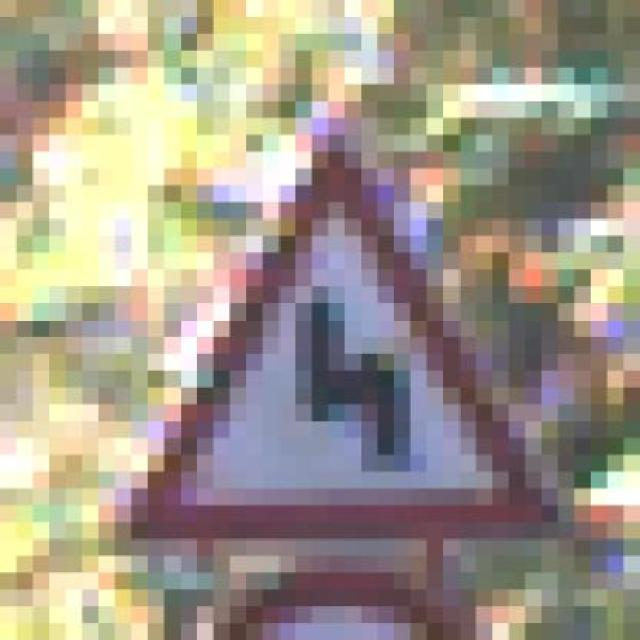Left Zig Zag Traffic: (99, 118, 558, 556)
